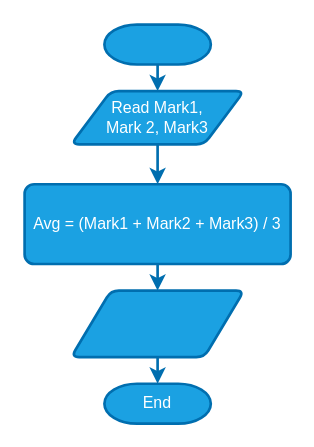
Image size: 314x447. Some labels were removed from this diagram. The shapes that lost their labels are listed below. From the top down, each one's centre as x and y in pixels, then its label:
point 156,44: start
point 157,323: Print Avg
